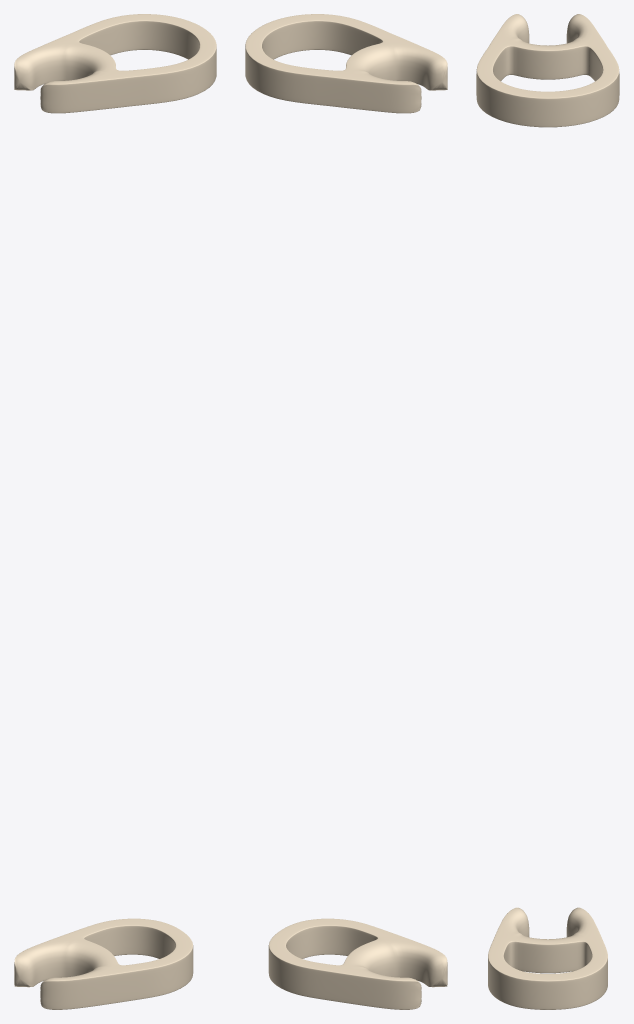
File: ubk.glb
The picture shows the model from 3 angles, left to right: view 1: azimuth 30°, elevation 25°; view 2: azimuth 150°, elevation 25°; view 3: azimuth 270°, elevation 25°; orthographic projection.
Visible parts, largest first — view 1: ubk; view 2: ubk; view 3: ubk.
Part boxes in pixels (x1,y1,x2,y2): ubk: [14, 14, 216, 1009]; ubk: [245, 14, 447, 1009]; ubk: [476, 14, 619, 1009].
Size of the model in its own units: 0.0792 by 0.3926 by 0.0552.
